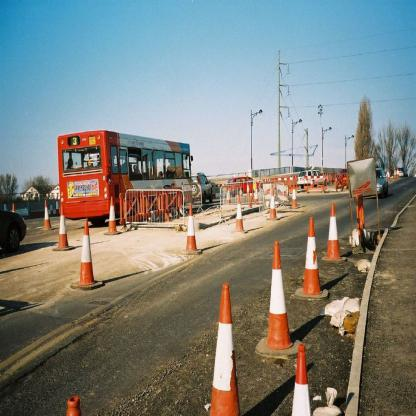Bus: (55, 127, 194, 226)
